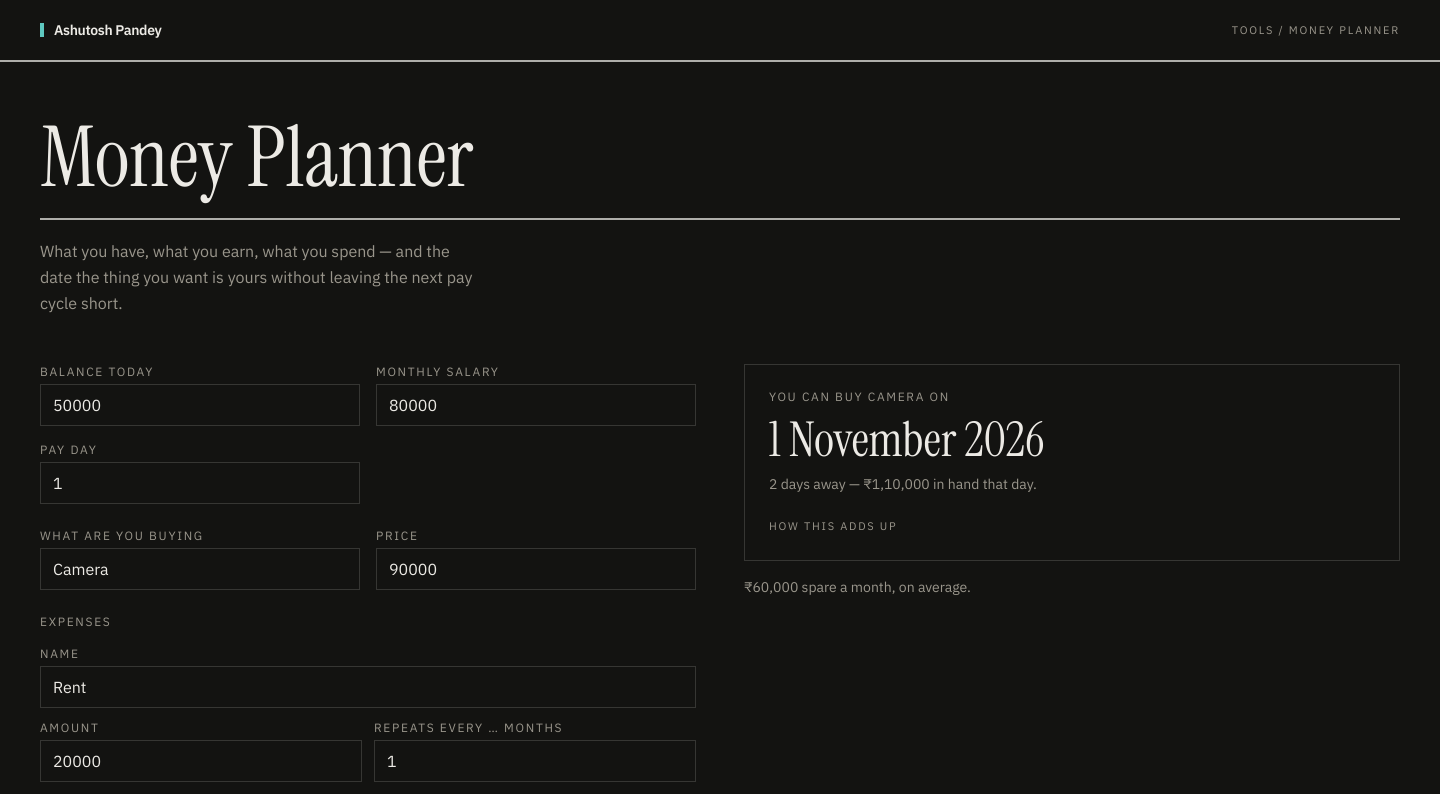
Test: Money Planner page › hides the spare-a-month readout instead of showing ₹NaN while a field is cleared
Check: the text "₹60,000 spare a month, on average." is shown, box [744, 578, 971, 596]
Clear the number field named "Expense 1 repeats every" at {"x": 535, "y": 761}, box [374, 740, 696, 782]
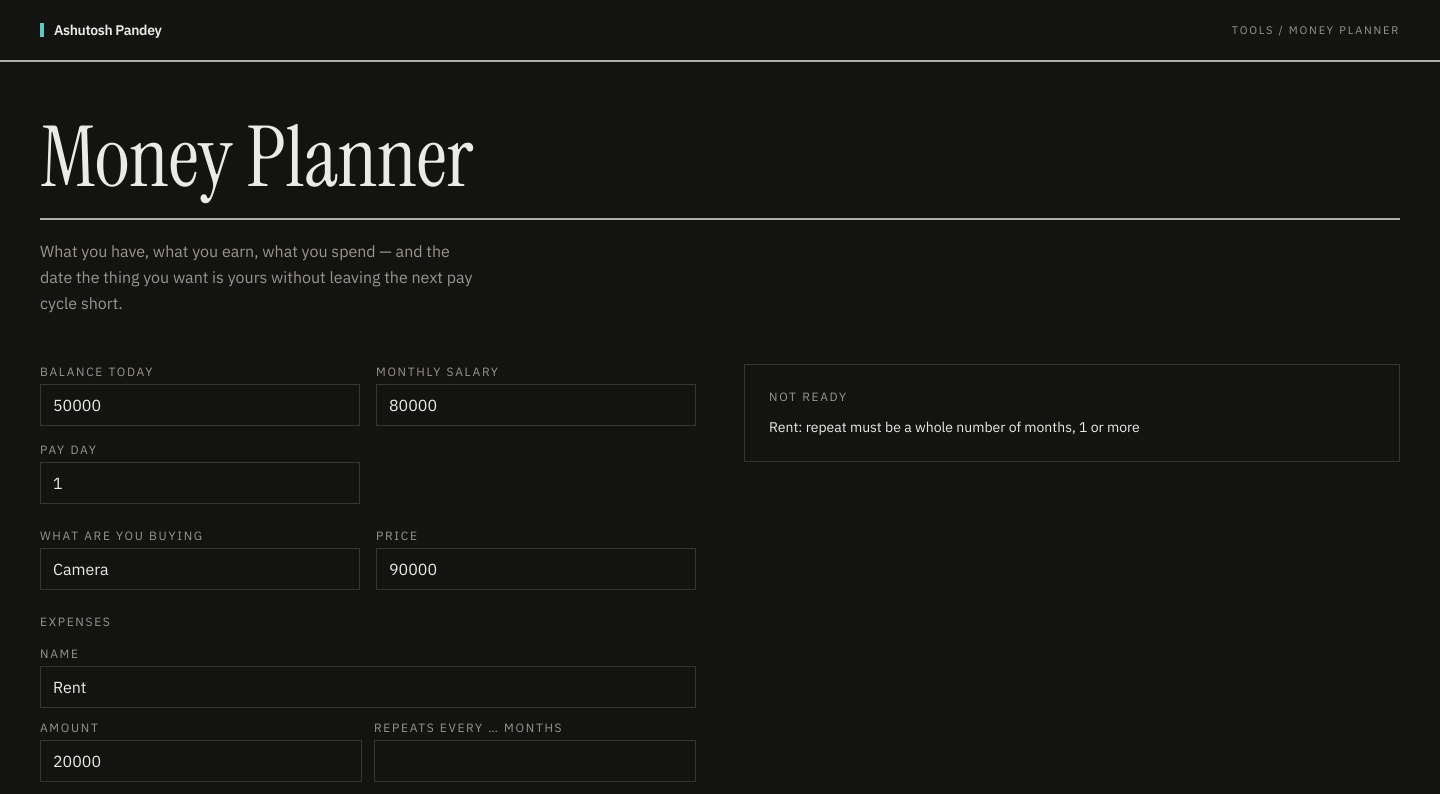
Check: the text "spare a month, on average." is gone
